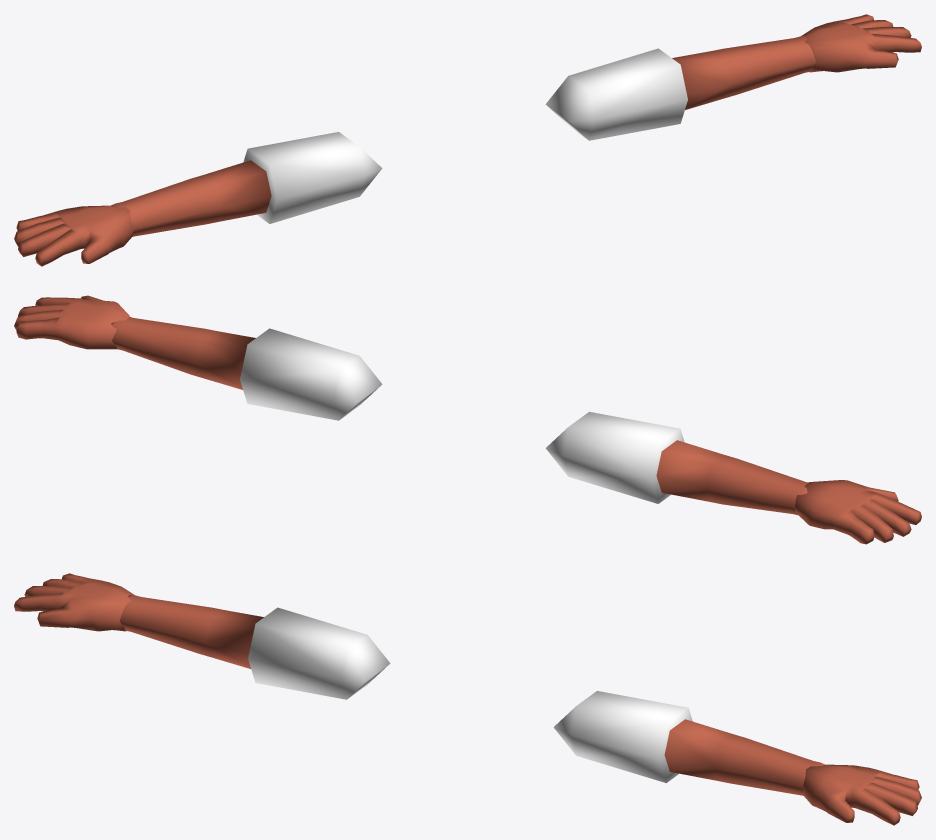
File: NPC_Black_Arm_02.gltf
3 views of the same model, one above another, from view 1: azimuth 30°, elevation 25°; view 2: azimuth 150°, elevation 25°; view 3: azimuth 330°, elevation 25° (orthographic).
Visible parts, largest first — view 1: NPC_Black_Arm_02; view 2: NPC_Black_Arm_02; view 3: NPC_Black_Arm_02.
Boxes of the visible parts, box(x1,y1,x2,y2) form: NPC_Black_Arm_02: box(14, 14, 921, 266); NPC_Black_Arm_02: box(14, 295, 921, 544); NPC_Black_Arm_02: box(14, 573, 921, 825).
Bounding box in the file's own units: 2.31 × 0.147 × 0.2269.
1 material, 1 textured.
